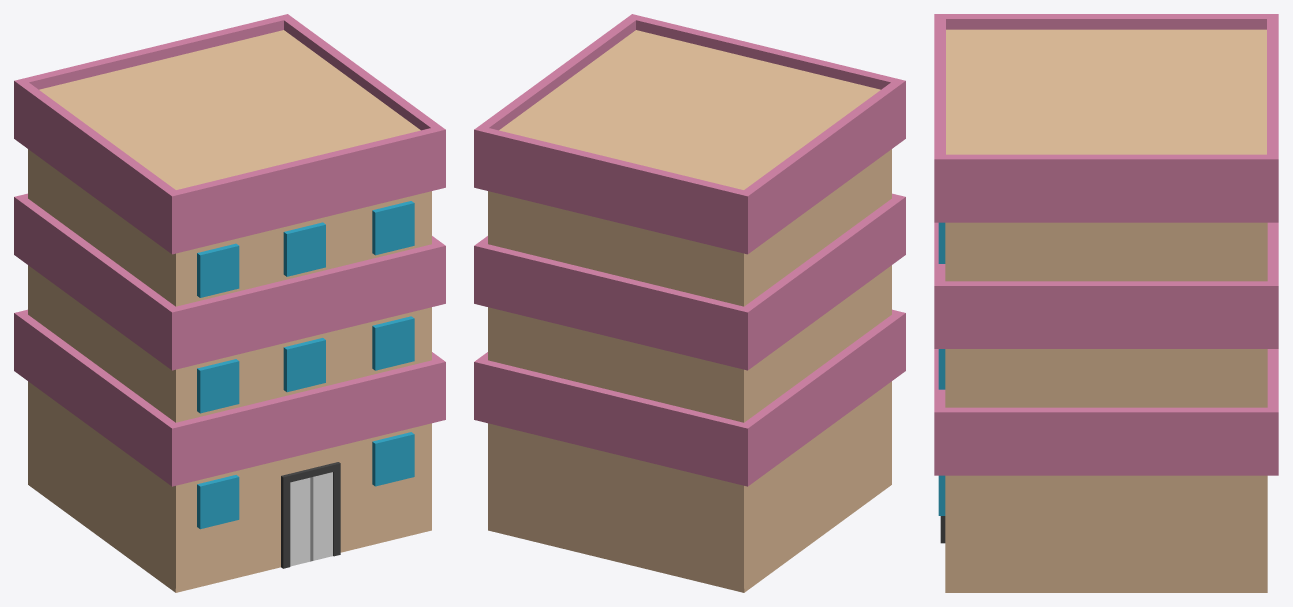
File: Building_3.FBX
The picture shows the model from 3 angles, left to right: view 1: azimuth 30°, elevation 25°; view 2: azimuth 150°, elevation 25°; view 3: azimuth 270°, elevation 25°; orthographic projection. The views are drawn at different scales.
Parts seen in each view (by area): view 1: Building 03; view 2: Building 03; view 3: Building 03.
Boxes of the visible parts, x1,y1,x2,y2 form: Building 03: [14, 14, 445, 592]; Building 03: [474, 14, 905, 592]; Building 03: [934, 14, 1278, 592].
Size of the model in its own units: 7.93 by 11.13 by 7.93.
1 material, 1 textured.
